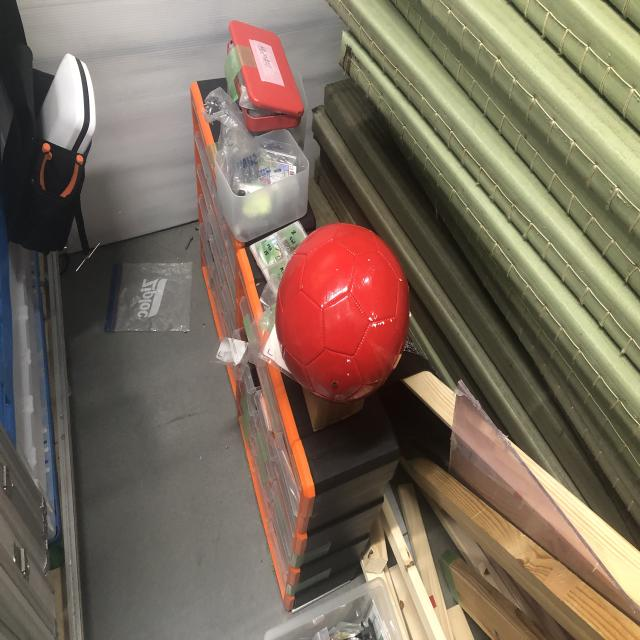red_ball: (274, 222, 410, 406)
